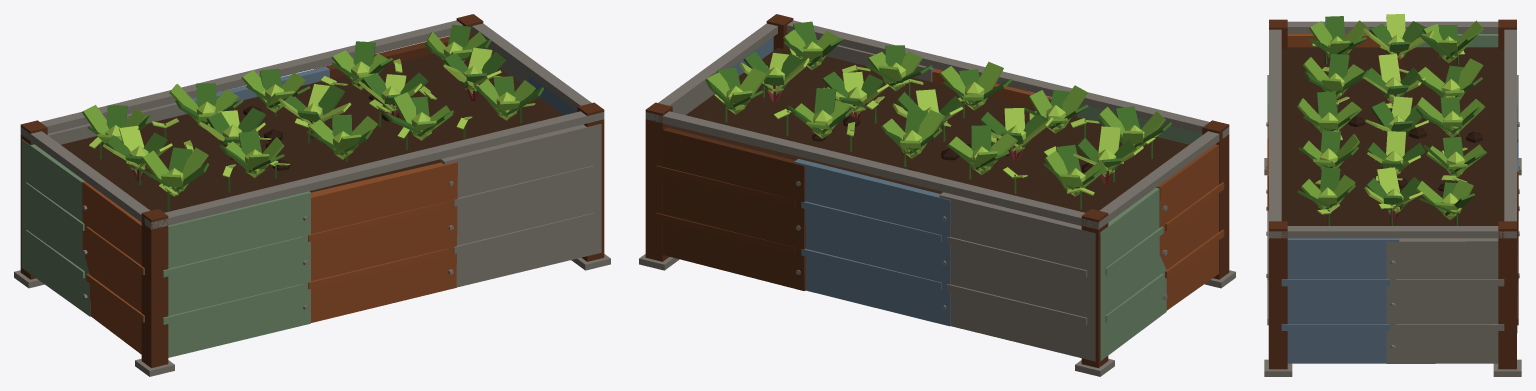
Rendered from plant_bed.glb.
3 renders of one model, left to right at view 1: azimuth 30°, elevation 25°; view 2: azimuth 150°, elevation 25°; view 3: azimuth 270°, elevation 25°, orthographic. The views are drawn at different scales.
Visible parts, largest first — view 1: plant_bed, plant_bed_grown, plant_bed_sprouts; view 2: plant_bed, plant_bed_grown, plant_bed_sprouts; view 3: plant_bed, plant_bed_grown, plant_bed_sprouts.
Part boxes in pixels (x1,y1,x2,y2): plant_bed: (14, 14, 610, 376); plant_bed_grown: (82, 24, 543, 196); plant_bed_sprouts: (89, 58, 535, 210); plant_bed: (639, 14, 1235, 376); plant_bed_grown: (705, 21, 1171, 196); plant_bed_sprouts: (714, 48, 1160, 209); plant_bed: (1264, 19, 1521, 376); plant_bed_grown: (1297, 14, 1486, 222); plant_bed_sprouts: (1312, 41, 1467, 225).
Bounding box in the file's own units: 1.63 × 0.5897 × 0.83.
